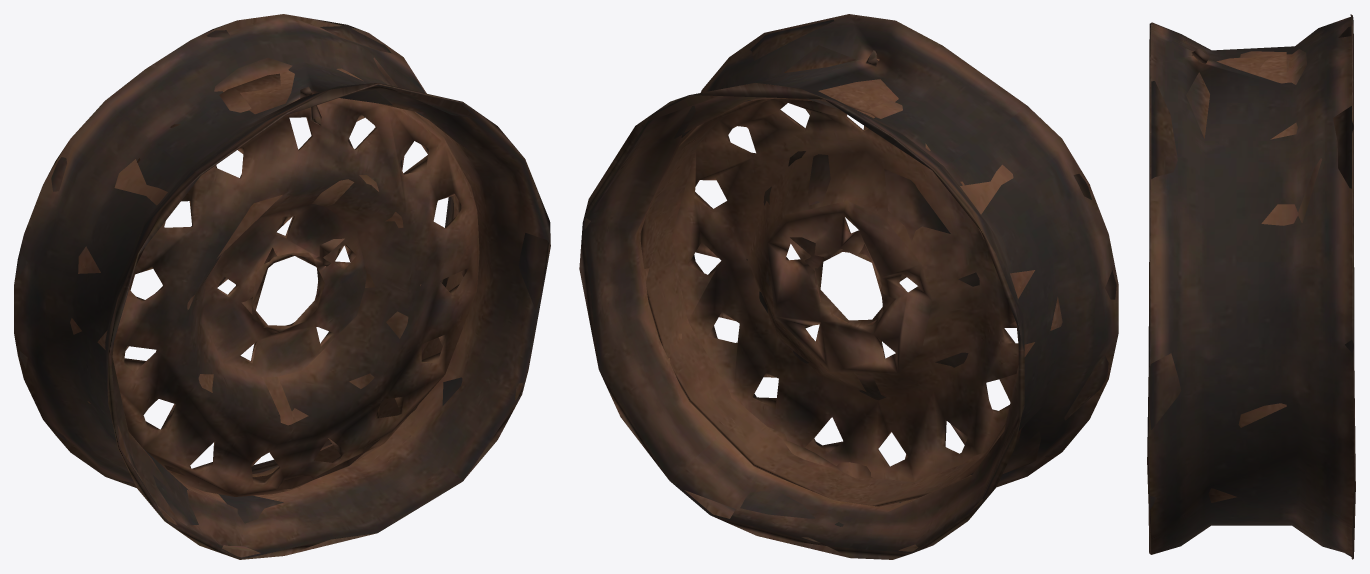
Rendered from rusted_wheel_rim_01.glb.
3 renders of one model, left to right at view 1: azimuth 30°, elevation 25°; view 2: azimuth 150°, elevation 25°; view 3: azimuth 270°, elevation 25°, orthographic. The views are drawn at different scales.
Visible parts, largest first — view 1: rusted_wheel_rim_01; view 2: rusted_wheel_rim_01; view 3: rusted_wheel_rim_01.
Part boxes in pixels (x1=…): rusted_wheel_rim_01: x1=14, y1=14, x2=550, y2=559; rusted_wheel_rim_01: x1=579, y1=14, x2=1118, y2=559; rusted_wheel_rim_01: x1=1147, y1=14, x2=1355, y2=559.
Bounding box in the file's own units: 0.4005 × 0.3944 × 0.1529.
Materials: 1 (1 with a texture image).
